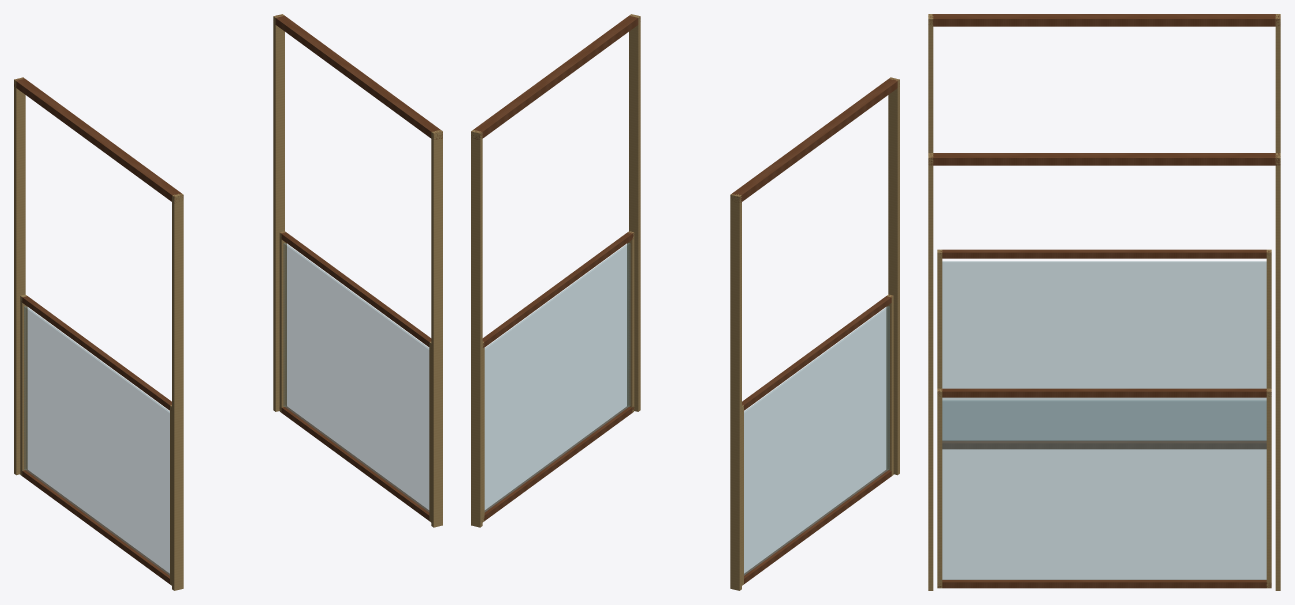
File: ForwardCrossing.glb
3 views of the same model, side by side, from view 1: azimuth 30°, elevation 25°; view 2: azimuth 150°, elevation 25°; view 3: azimuth 270°, elevation 25° (orthographic). The views are drawn at different scales.
Visible parts, largest first — view 1: Crossing_East_MovingGlass, Crossing_West_MovingGlass, Crossing_East_FixedPost_South, Crossing_West_FixedPost_South, Crossing_East_FixedPost_North, Crossing_West_FixedPost_North, Crossing_East_FixedHeader, Crossing_West_FixedHeader, Crossing_East_MovingRail_Top, Crossing_West_MovingRail_Top, Crossing_East_MovingRail_Bottom, Crossing_West_MovingRail_Bottom (+2 smaller); view 2: Crossing_East_MovingGlass, Crossing_West_MovingGlass, Crossing_East_FixedPost_North, Crossing_West_FixedPost_North, Crossing_East_FixedPost_South, Crossing_West_FixedPost_South, Crossing_West_FixedHeader, Crossing_East_FixedHeader, Crossing_East_MovingRail_Top, Crossing_West_MovingRail_Top, Crossing_East_MovingRail_Bottom, Crossing_West_MovingRail_Bottom (+2 smaller); view 3: Crossing_East_MovingGlass, Crossing_West_MovingGlass, Crossing_East_FixedHeader, Crossing_West_FixedHeader, Crossing_East_MovingRail_Top, Crossing_East_MovingRail_Bottom, Crossing_West_MovingRail_Top, Crossing_West_MovingRail_Bottom, Crossing_East_FixedPost_North, Crossing_East_FixedPost_South, Crossing_East_MovingStile_South, Crossing_East_MovingStile_North (+4 smaller).
Boxes of the visible parts, x1,y1,x2,y2 form: Crossing_East_MovingGlass: (283, 243, 429, 511); Crossing_West_MovingGlass: (24, 306, 169, 575); Crossing_East_FixedPost_South: (431, 129, 442, 527); Crossing_West_FixedPost_South: (172, 193, 183, 590); Crossing_East_FixedPost_North: (273, 14, 284, 411); Crossing_West_FixedPost_North: (14, 77, 25, 475); Crossing_East_FixedHeader: (273, 14, 442, 139); Crossing_West_FixedHeader: (14, 77, 183, 203); Crossing_East_MovingRail_Top: (280, 231, 431, 346); Crossing_West_MovingRail_Top: (21, 296, 171, 410); Crossing_East_MovingRail_Bottom: (279, 406, 429, 520); Crossing_West_MovingRail_Bottom: (20, 469, 169, 583); Crossing_East_MovingGlass: (484, 243, 630, 511); Crossing_West_MovingGlass: (744, 306, 889, 575); Crossing_East_FixedPost_North: (471, 129, 482, 527); Crossing_West_FixedPost_North: (730, 194, 741, 590); Crossing_East_FixedPost_South: (629, 14, 640, 411); Crossing_West_FixedPost_South: (888, 77, 899, 475); Crossing_West_FixedHeader: (731, 77, 899, 202); Crossing_East_FixedHeader: (471, 15, 640, 139); Crossing_East_MovingRail_Top: (482, 231, 633, 347); Crossing_West_MovingRail_Top: (742, 295, 892, 410); Crossing_East_MovingRail_Bottom: (482, 406, 634, 521); Crossing_West_MovingRail_Bottom: (744, 469, 891, 583); Crossing_East_MovingGlass: (942, 400, 1266, 579); Crossing_West_MovingGlass: (942, 261, 1266, 440); Crossing_East_FixedHeader: (928, 153, 1280, 165); Crossing_West_FixedHeader: (928, 14, 1280, 26); Crossing_East_MovingRail_Top: (938, 388, 1271, 397); Crossing_East_MovingRail_Bottom: (938, 579, 1271, 588); Crossing_West_MovingRail_Top: (940, 249, 1271, 258); Crossing_West_MovingRail_Bottom: (942, 440, 1266, 449); Crossing_East_FixedPost_North: (1275, 153, 1280, 590); Crossing_East_FixedPost_South: (928, 153, 933, 590); Crossing_East_MovingStile_South: (937, 388, 942, 588); Crossing_East_MovingStile_North: (1266, 388, 1271, 588).
Size of the model in its own units: 4.08 by 5.72 by 4.22.
3 materials, 2 textured.
